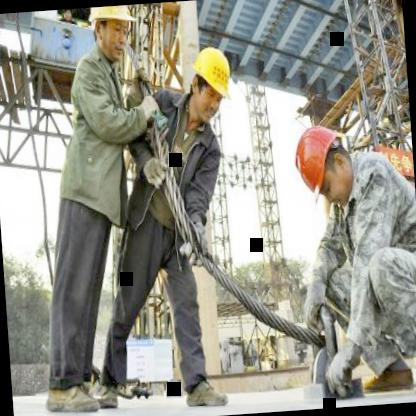helmet: (292, 116, 353, 209), (183, 41, 239, 126), (84, 5, 138, 63)
